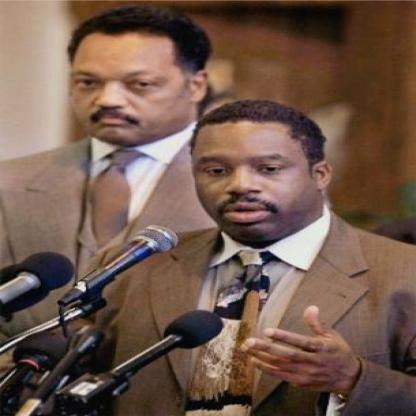face: (59, 10, 193, 145), (187, 102, 318, 240)
